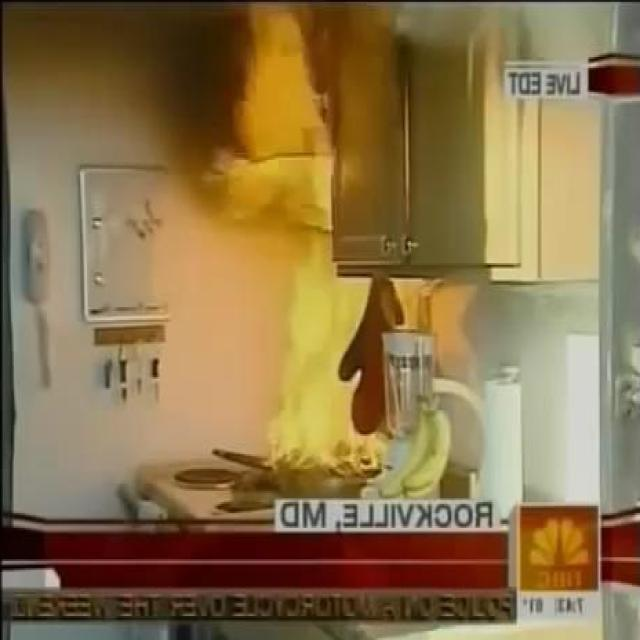smoke: (202, 6, 401, 480)
